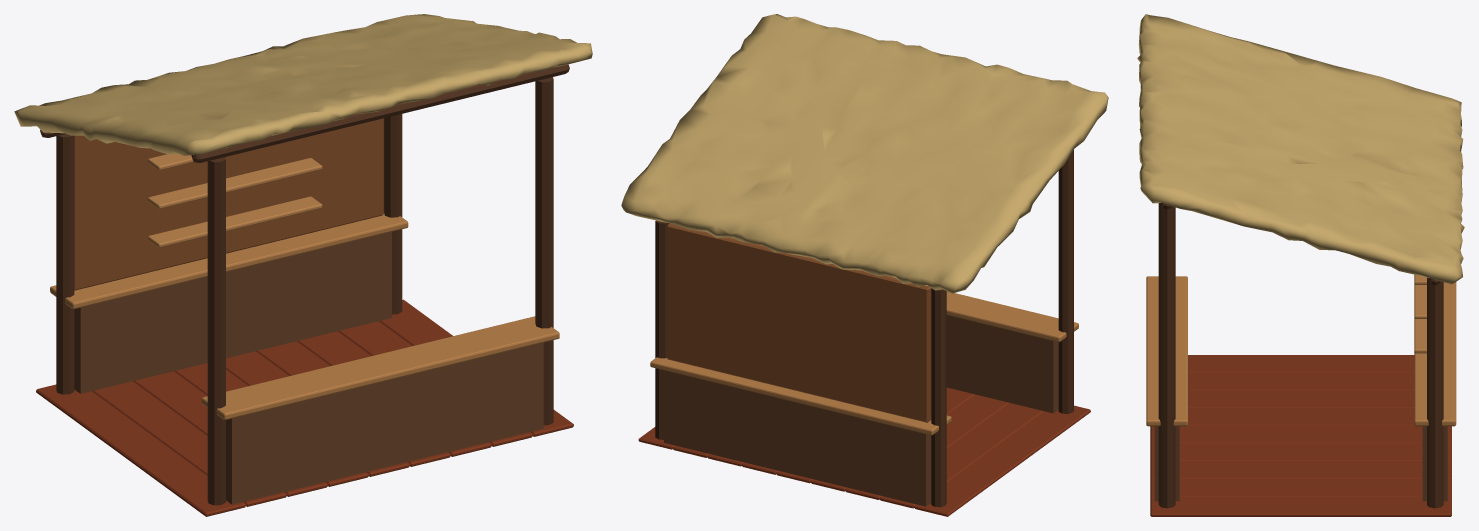
The model's file is Bar.fbx.
3 renders of one model, left to right at view 1: azimuth 30°, elevation 25°; view 2: azimuth 150°, elevation 25°; view 3: azimuth 270°, elevation 25°, orthographic. The views are drawn at different scales.
Parts seen in each view (by area): view 1: palinka; view 2: palinka; view 3: palinka.
Boxes of the visible parts, box(x1,y1,x2,y2) form: palinka: box(14, 14, 592, 516); palinka: box(621, 14, 1108, 516); palinka: box(1137, 14, 1464, 516).
Size of the model in its own units: 5.04 by 4.47 by 3.91.
1 material, 1 textured.
